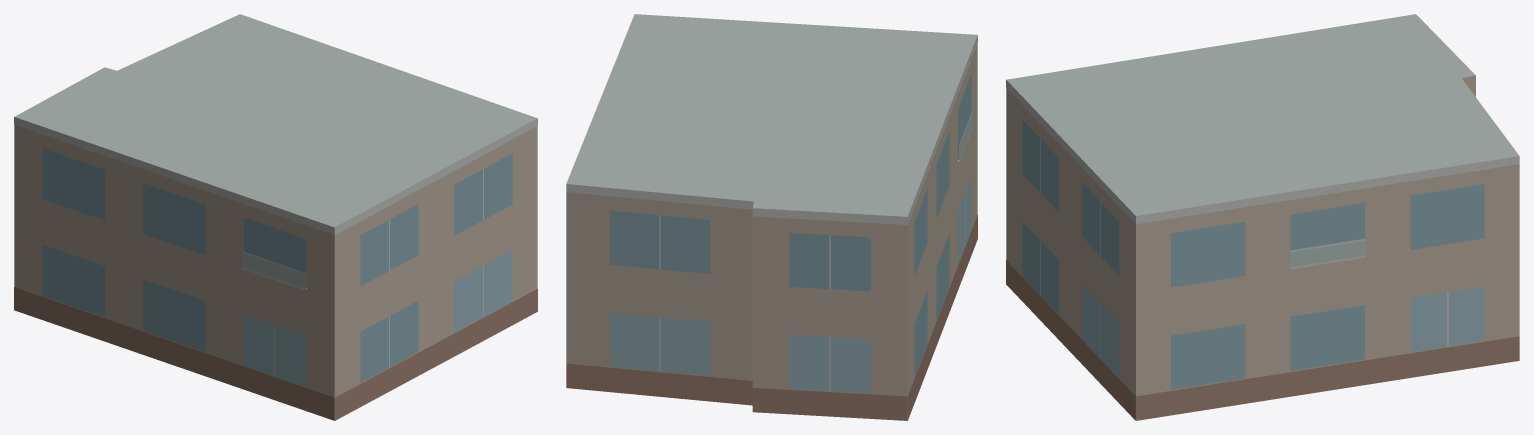
File: survey-upis-32835903.glb
The picture shows the model from 3 angles, left to right: view 1: azimuth 30°, elevation 25°; view 2: azimuth 150°, elevation 25°; view 3: azimuth 270°, elevation 25°; orthographic projection. The views are drawn at different scales.
Visible parts, largest first — view 1: survey-upis-32835903.tmp; view 2: survey-upis-32835903.tmp; view 3: survey-upis-32835903.tmp.
Boxes of the visible parts, x1,y1,x2,y2 form: survey-upis-32835903.tmp: (14,14,537,420); survey-upis-32835903.tmp: (566,14,977,420); survey-upis-32835903.tmp: (1006,14,1519,420).
Size of the model in its own units: 12.92 by 6.1 by 13.87.
